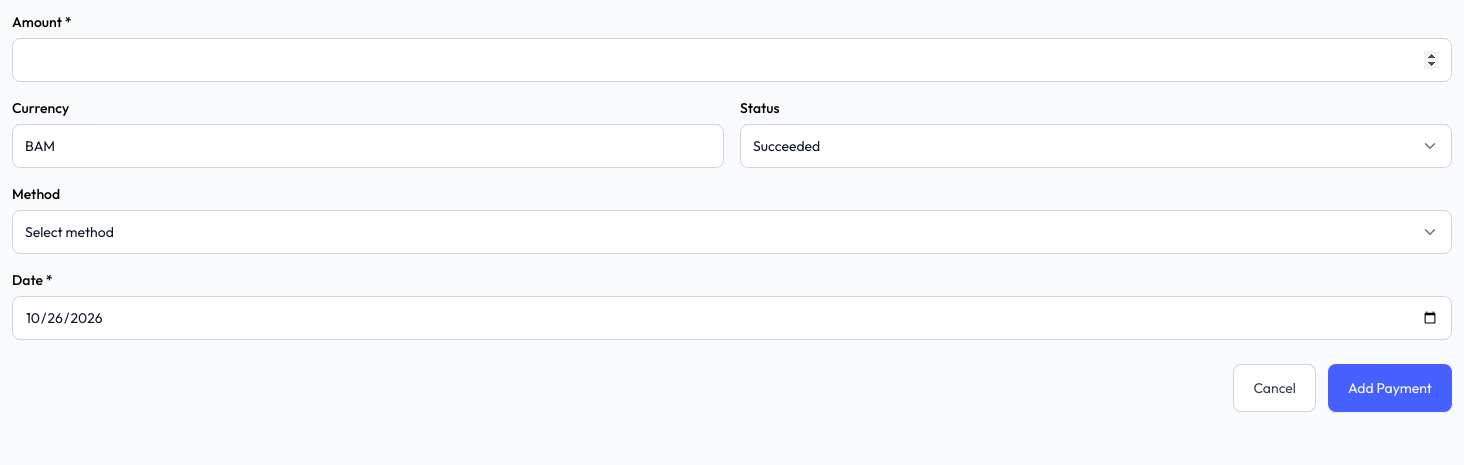
it: shared payment form › rejects invalid amount -1 before sending
Type "-1" into the number field labelled "Amount *".
click(732, 60); type("-1")  # box 12,38 -> 1452,82
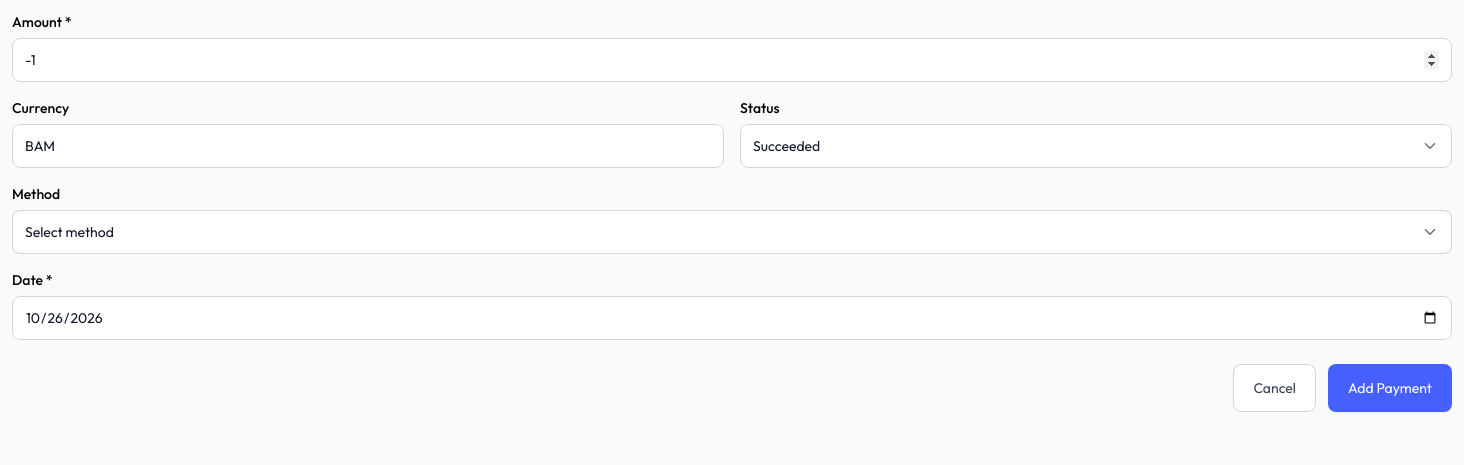
Submit the form
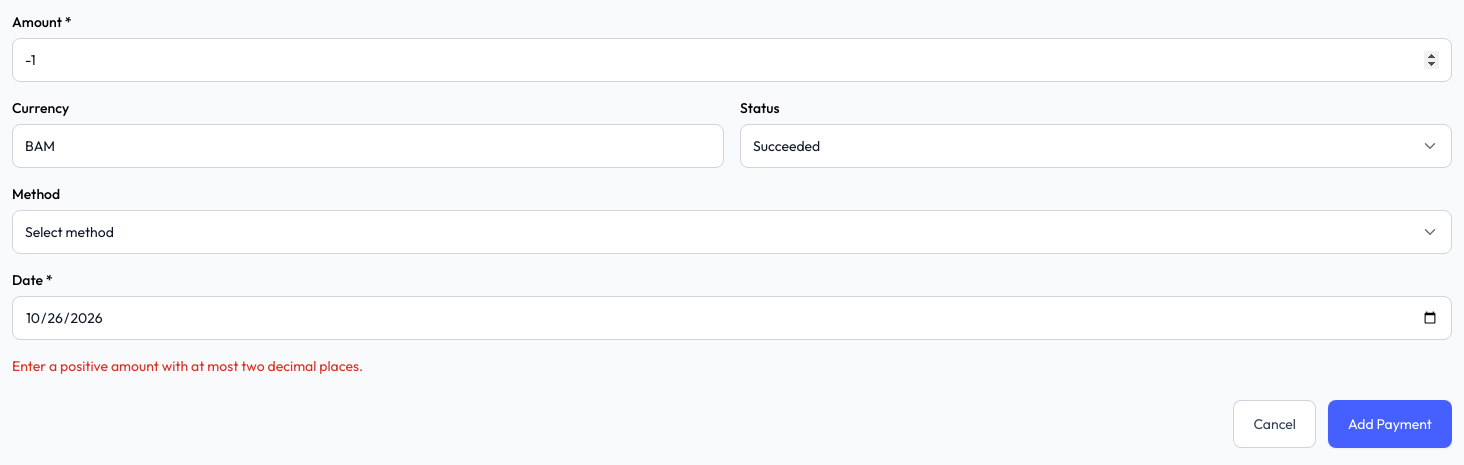
Result: the message "Enter a positive amount with at most two decimal places." is shown at 12,357 -> 363,375
